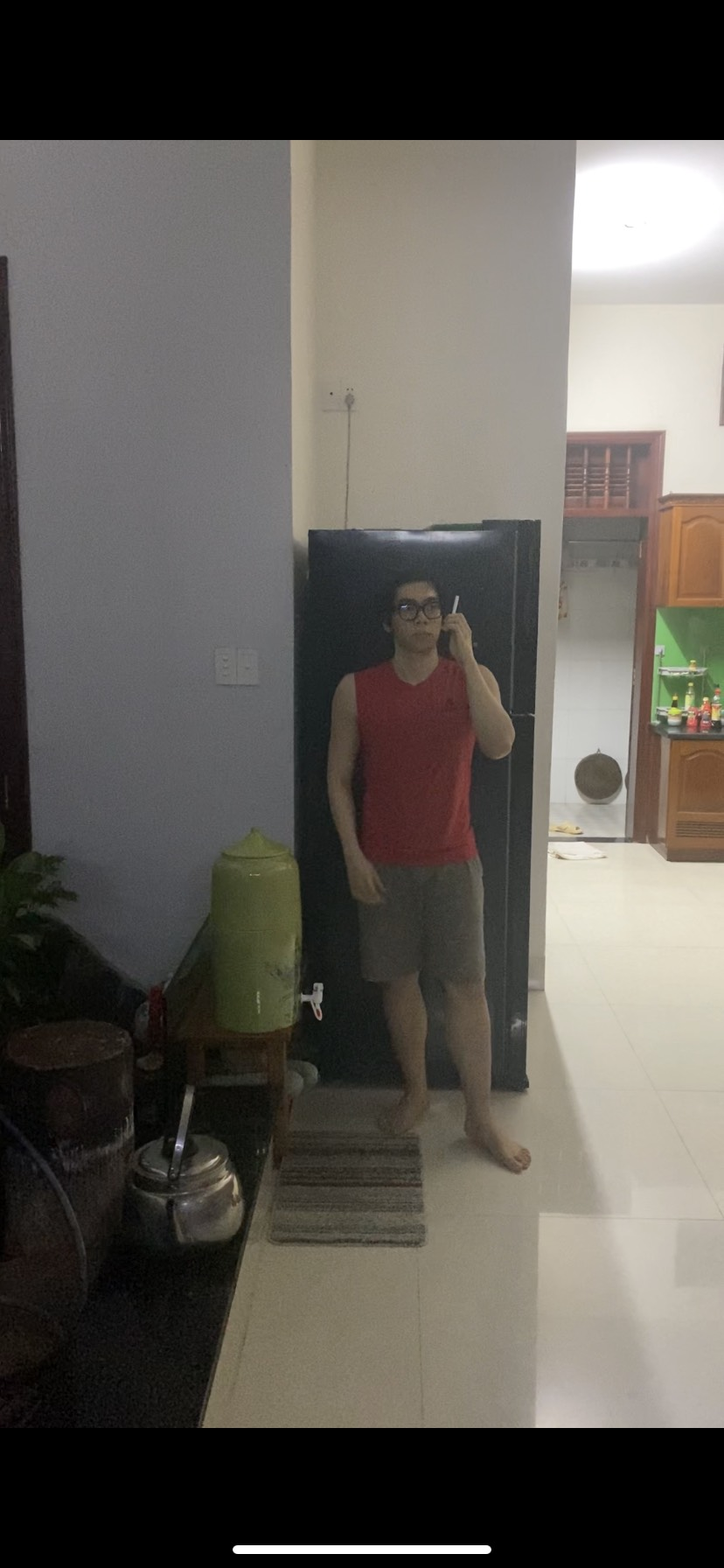cigarette: (449, 592, 463, 615)
person: (324, 567, 533, 1186)
